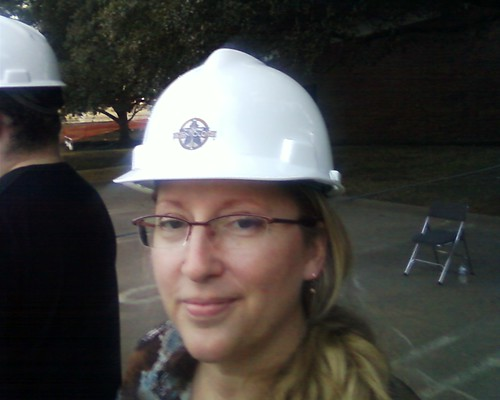person hardhat: (107, 45, 404, 400), (1, 18, 122, 396)
